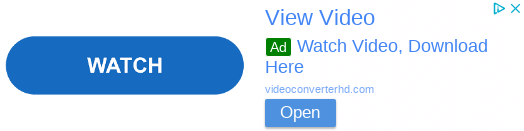fake_button: (0, 33, 248, 103), (259, 96, 341, 129)
